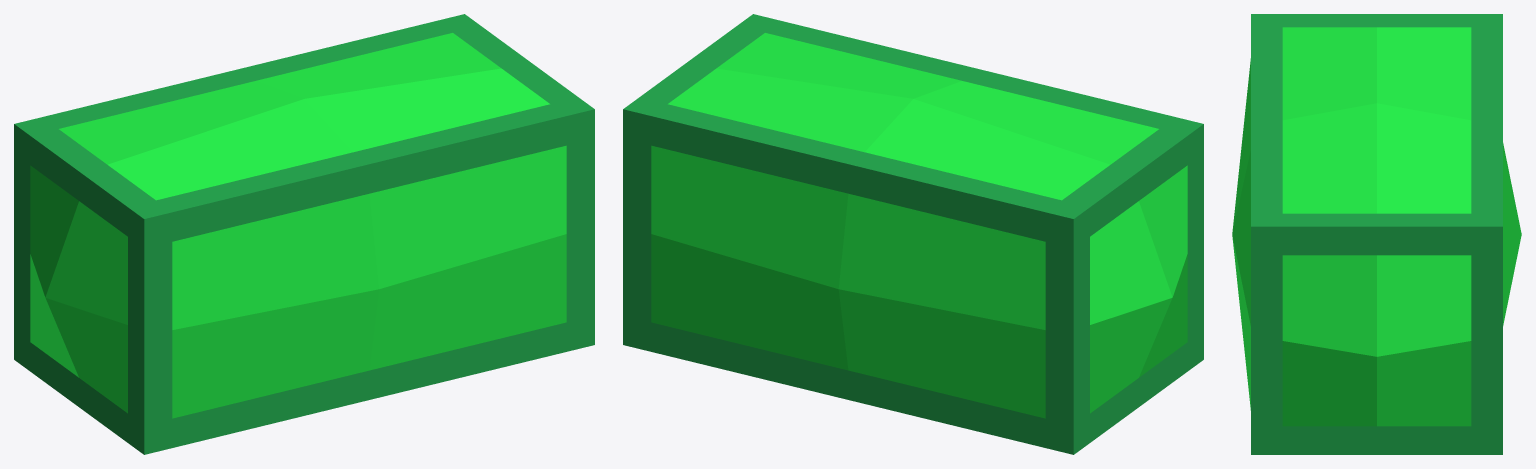
File: ManaFull.fbx
3 views of the same model, side by side, from view 1: azimuth 30°, elevation 25°; view 2: azimuth 150°, elevation 25°; view 3: azimuth 270°, elevation 25° (orthographic). The views are drawn at different scales.
Visible parts, largest first — view 1: Mana.Full; view 2: Mana.Full; view 3: Mana.Full.
Boxes of the visible parts, x1,y1,x2,y2 form: Mana.Full: (14, 14, 594, 454); Mana.Full: (623, 14, 1203, 454); Mana.Full: (1232, 14, 1521, 454).
Size of the model in its own units: 460 by 230 by 230.
